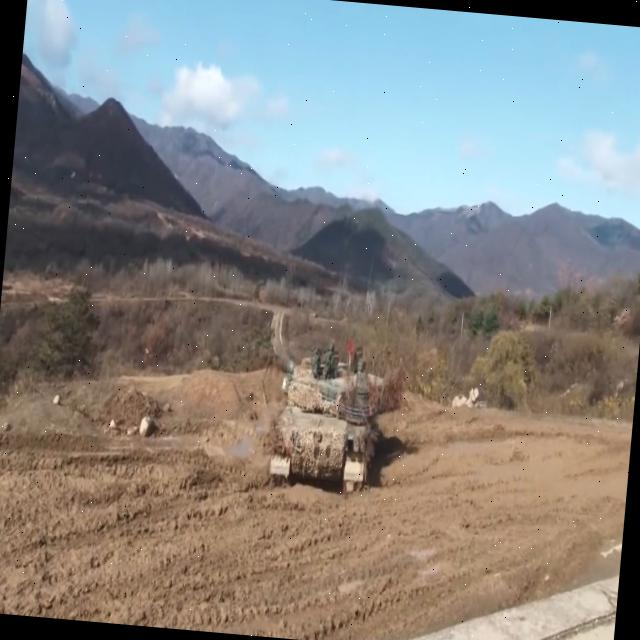korea tank: (242, 330, 406, 496)
